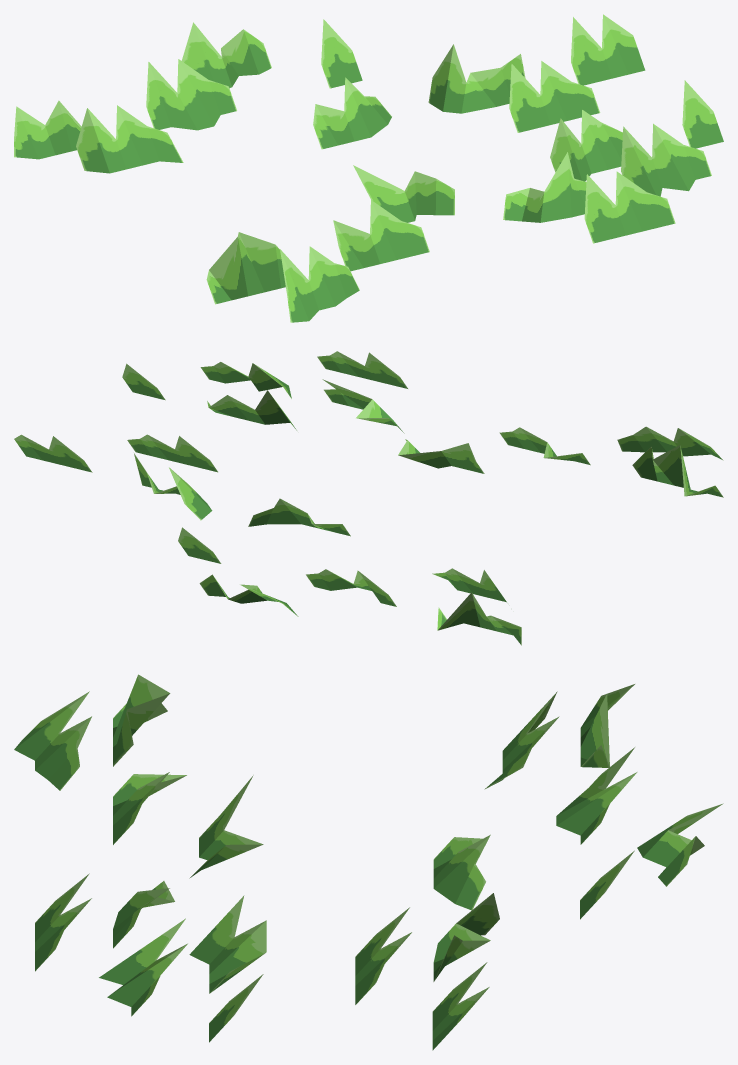
Rendered from individualgrass.fbx.
3 views of the same model, one above another, from view 1: azimuth 30°, elevation 25°; view 2: azimuth 150°, elevation 25°; view 3: azimuth 270°, elevation 25° (orthographic). The views are drawn at different scales.
Visible parts, largest first — view 1: Grass.006; view 2: Grass.006; view 3: Grass.006.
Boxes of the visible parts, x1,y1,x2,y2 form: Grass.006: (14, 14, 723, 322); Grass.006: (14, 351, 723, 645); Grass.006: (14, 674, 723, 1050).
Size of the model in its own units: 1.48 by 0.1366 by 1.34.
Materials: 1 (1 with a texture image).
